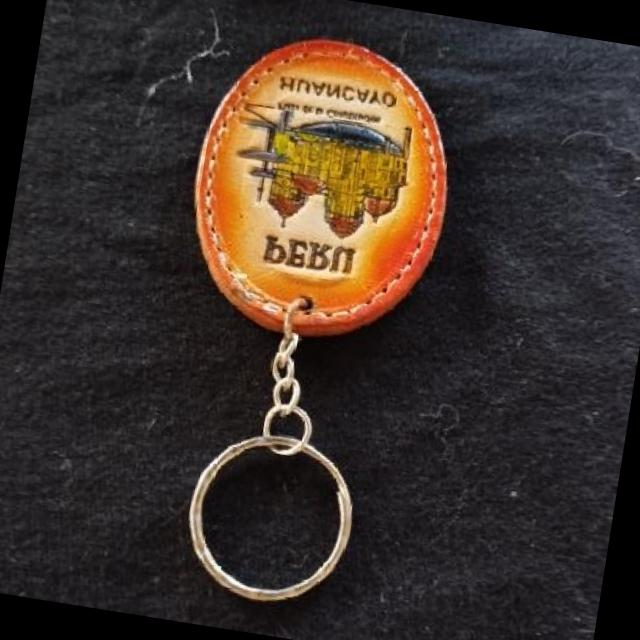Llavero: (172, 21, 470, 358)
